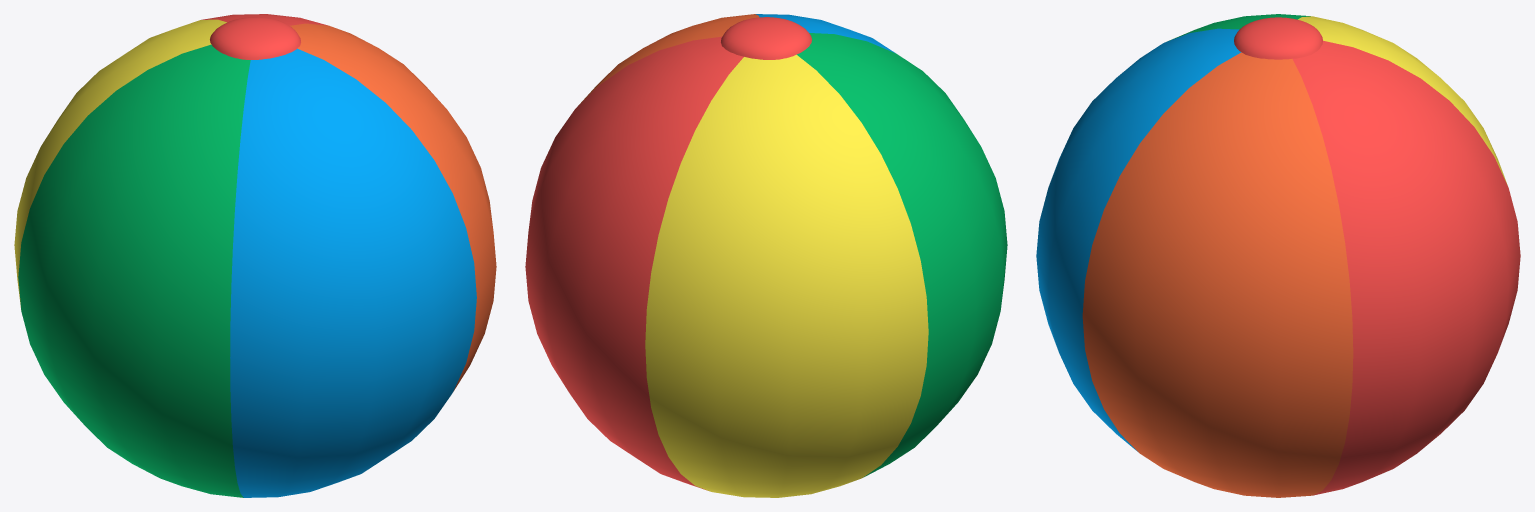
Rendered from Store_11_Toy_Ball_1.glb.
3 views of the same model, side by side, from view 1: azimuth 30°, elevation 25°; view 2: azimuth 150°, elevation 25°; view 3: azimuth 270°, elevation 25° (orthographic).
Visible parts, largest first — view 1: Store_11_Toy_Ball_1; view 2: Store_11_Toy_Ball_1; view 3: Store_11_Toy_Ball_1.
Boxes of the visible parts, box(x1,y1,x2,y2) form: Store_11_Toy_Ball_1: box(14, 14, 496, 497); Store_11_Toy_Ball_1: box(525, 14, 1007, 497); Store_11_Toy_Ball_1: box(1036, 14, 1520, 497).
Bounding box in the file's own units: 0.8167 × 0.8531 × 0.8167.
Materials: 1 (1 with a texture image).
